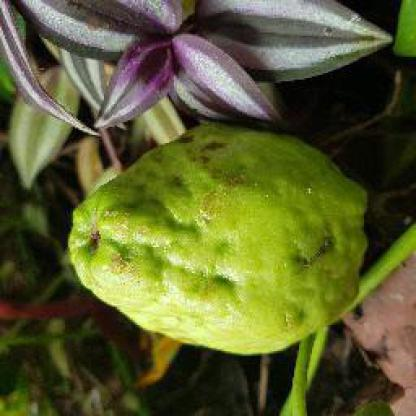guava: (63, 123, 369, 354)
